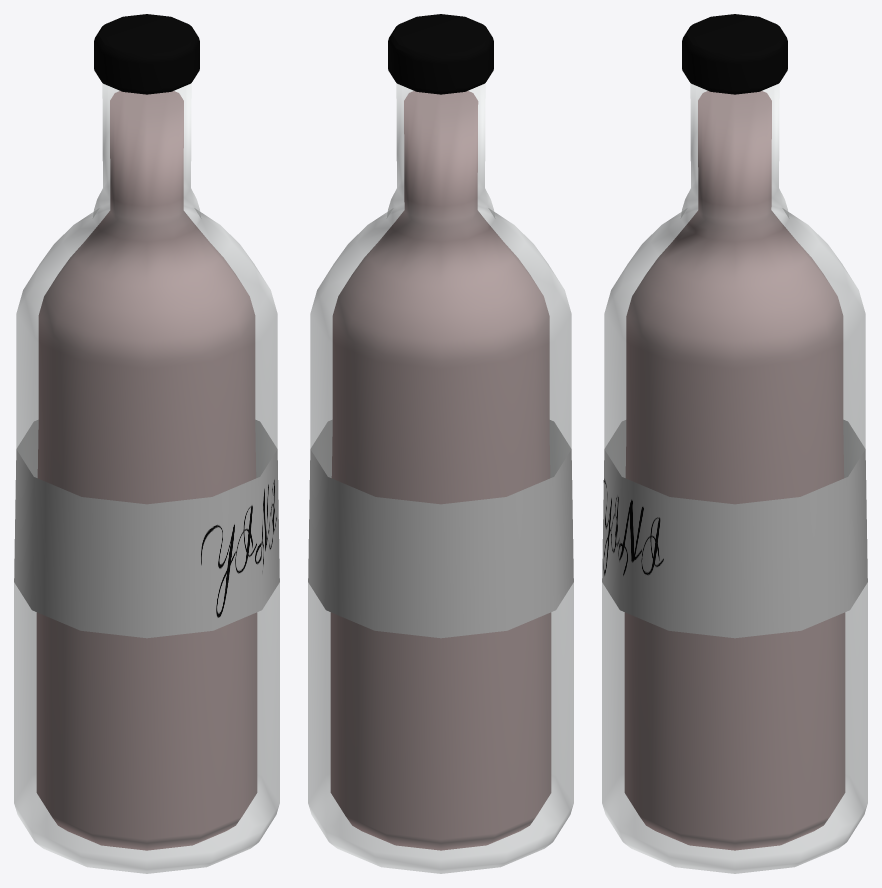
Rendered from BotellaYini.fbx.
3 renders of one model, left to right at view 1: azimuth 30°, elevation 25°; view 2: azimuth 150°, elevation 25°; view 3: azimuth 270°, elevation 25°, orthographic.
Visible parts, largest first — view 1: BotellaAlcohol, LiquidoAlcohol; view 2: BotellaAlcohol, LiquidoAlcohol; view 3: BotellaAlcohol, LiquidoAlcohol.
Boxes of the visible parts, left/top/right/bottom form: BotellaAlcohol: left=14, top=14, right=279, bottom=873; LiquidoAlcohol: left=36, top=91, right=257, bottom=850; BotellaAlcohol: left=308, top=14, right=573, bottom=873; LiquidoAlcohol: left=330, top=91, right=551, bottom=850; BotellaAlcohol: left=602, top=14, right=867, bottom=873; LiquidoAlcohol: left=624, top=91, right=845, bottom=850.
Size of the model in its own units: 10.54 by 34.69 by 10.54.
